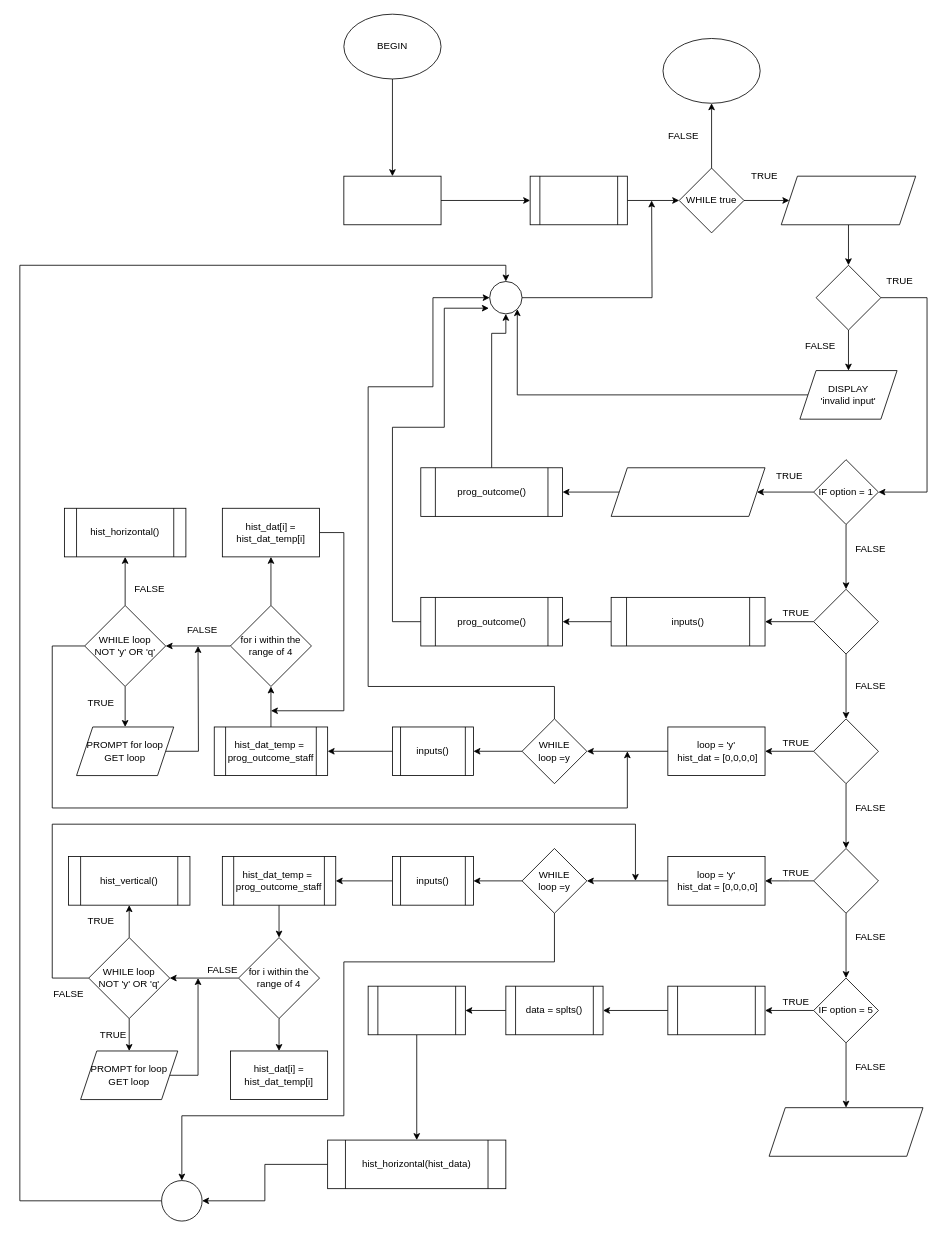
The diagram is 948 pixels wide and 1235 high, and some of its shapes have lost their labels. The shapes that lost their labels are listed below. From the top down, each one's centre as x and y in pixels, then its label:
[711,70]: END
[392,200]: SET inputs = ['1','2','3','4','5','q']
[578,200]: header_prnt()
[848,200]: PROMPT for option GET option
[848,297]: IF option in inputs
[687,491]: PROMPT for pass_credits, defer_credits, fail_credits
[845,621]: IF option = 2
[845,751]: IF option = 3
[845,880]: IF option = 4
[416,1010]: hist_dat = calc_outcome
[716,1010]: list_data = read_file()
[845,1131]: PRINT thank you message
